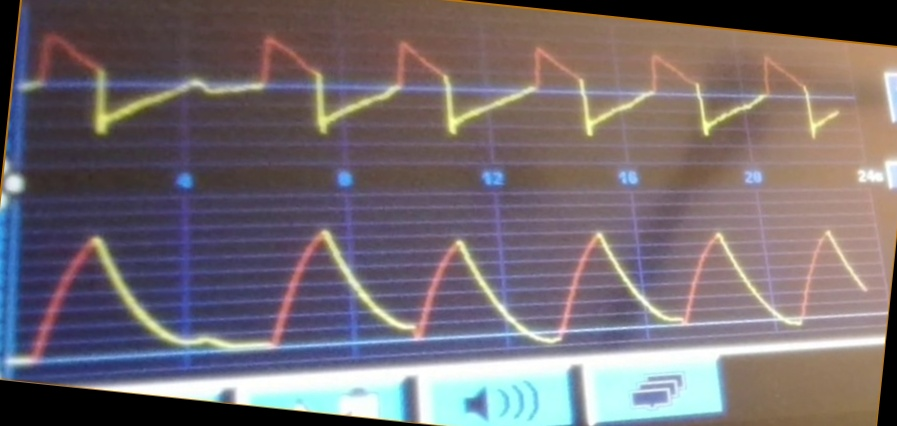Ineffective_effort Flow: (28, 29, 840, 148)
Ineffective_effort Volume: (30, 225, 866, 356)
